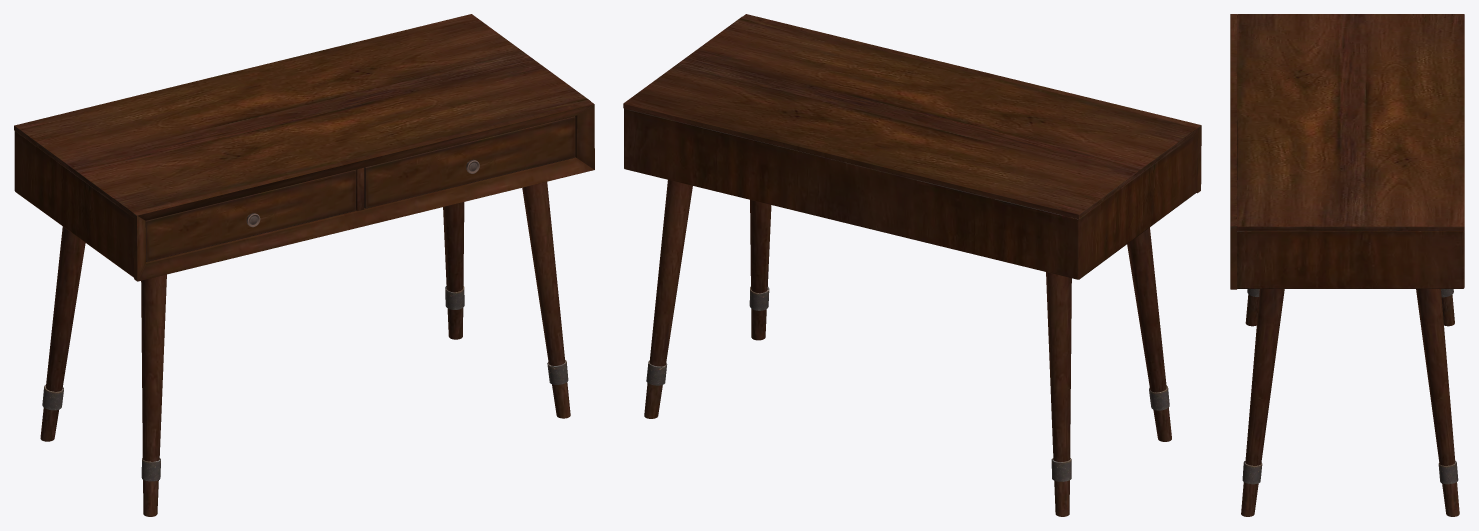
The model's file is B07B7GXKCN.glb.
3 renders of one model, left to right at view 1: azimuth 30°, elevation 25°; view 2: azimuth 150°, elevation 25°; view 3: azimuth 270°, elevation 25°, orthographic. The views are drawn at different scales.
Parts seen in each view (by area): view 1: RootNode; view 2: RootNode; view 3: RootNode.
Part boxes in pixels (x1,y1,x2,y2): RootNode: (14,14,594,516); RootNode: (623,14,1201,516); RootNode: (1230,14,1464,516).
Bounding box in the file's own units: 1.58 × 1.03 × 0.7341.
Materials: 1 (1 with a texture image).
